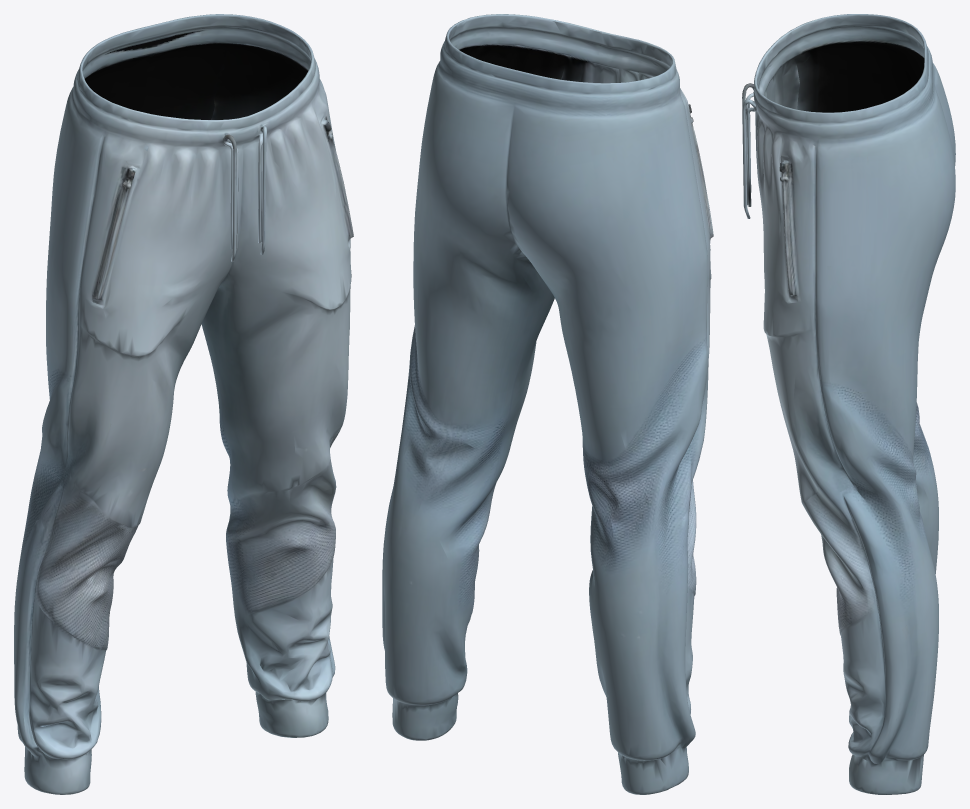
Rendered from DMP -03.glb.
The picture shows the model from 3 angles, left to right: view 1: azimuth 30°, elevation 25°; view 2: azimuth 150°, elevation 25°; view 3: azimuth 270°, elevation 25°; orthographic projection. The views are drawn at different scales.
Visible parts, largest first — view 1: Mesh_0; view 2: Mesh_0; view 3: Mesh_0.
Boxes of the visible parts, x1,y1,x2,y2 form: Mesh_0: [14, 14, 353, 794]; Mesh_0: [382, 14, 713, 794]; Mesh_0: [742, 14, 955, 794].
Size of the model in its own units: 0.5077 by 1.11 by 0.3176.
Materials: 1 (1 with a texture image).
